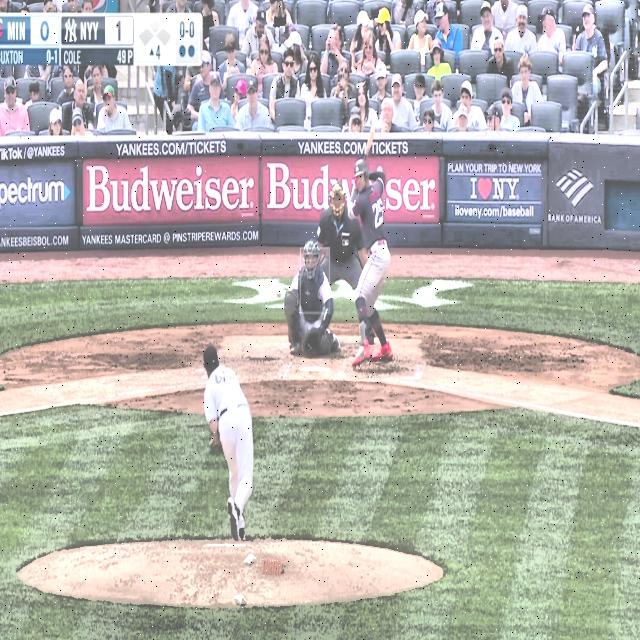baseball: (276, 285, 282, 299)
